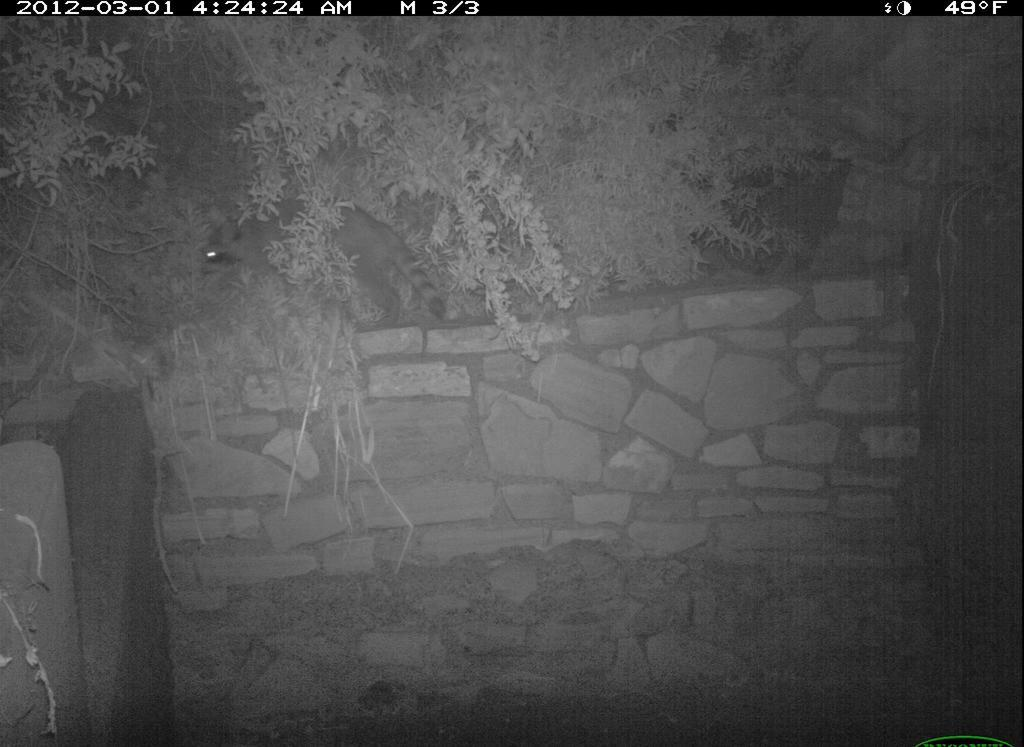raccoon: (199, 195, 465, 345)
